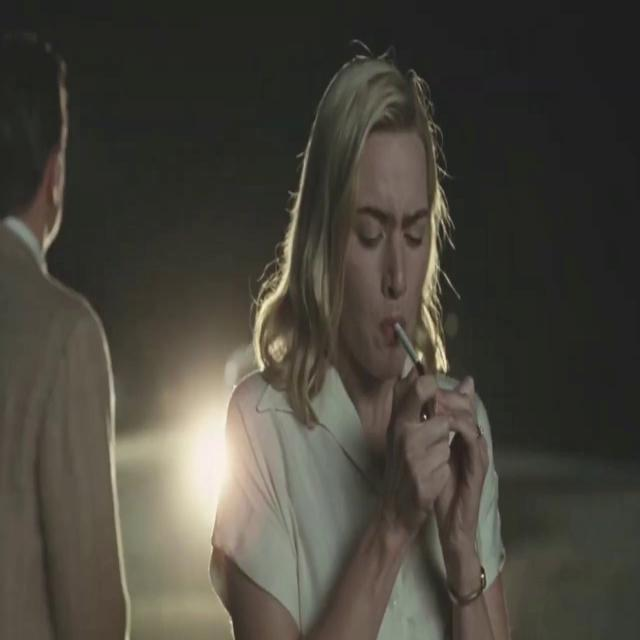Smooking: (392, 313, 424, 372)
